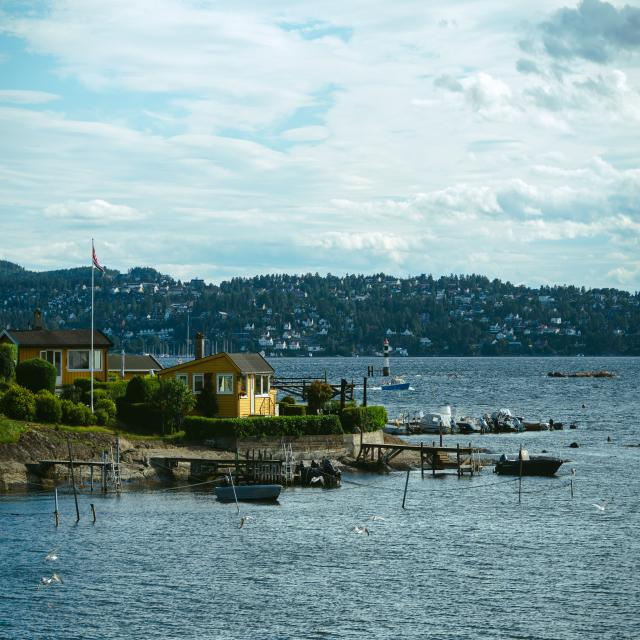building: (3, 322, 166, 389), (156, 348, 276, 424)
